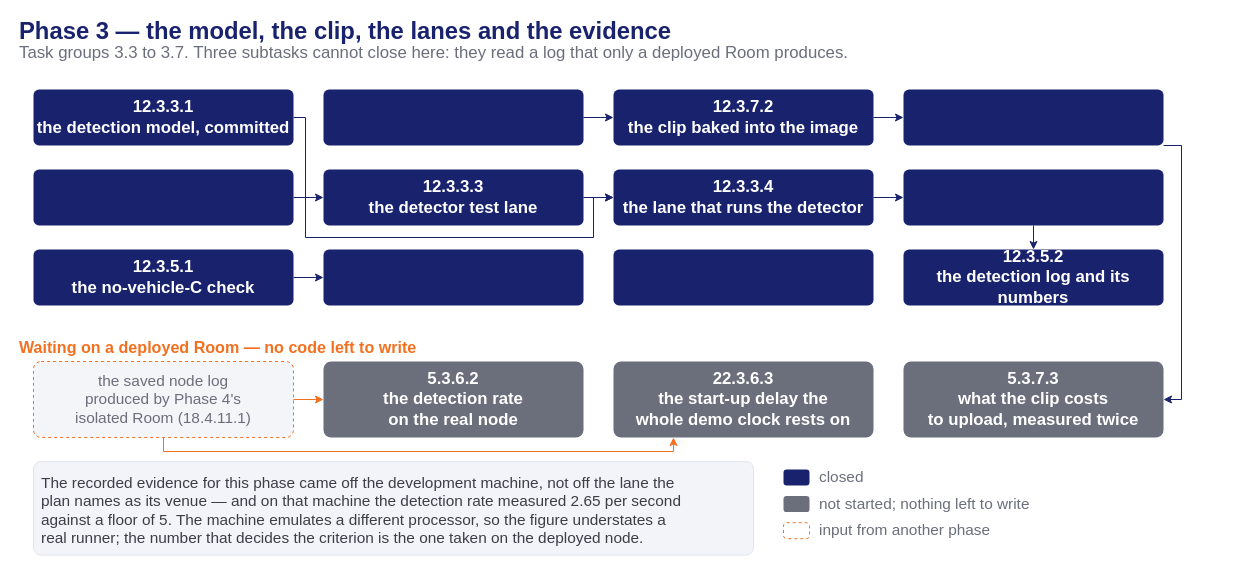
The diagram is 1254 pixels wide and 573 high, and some of its shapes have lost their labels. Each missing label, with the centre of its shape:
"12.3.3.2 the throwaway video fixture" goes at (x=163, y=197).
"12.3.4.3 the range constants, retuned" goes at (x=1033, y=197).
"12.3.5.4 its lane, so it is repeatable" goes at (x=453, y=277).
"12.3.7.1 the clip and its written source" goes at (x=453, y=117).
"3.3.5.3 real detector, real store" goes at (x=743, y=277).
"5.3.6.1 detector and model in the image" goes at (x=1033, y=117).
